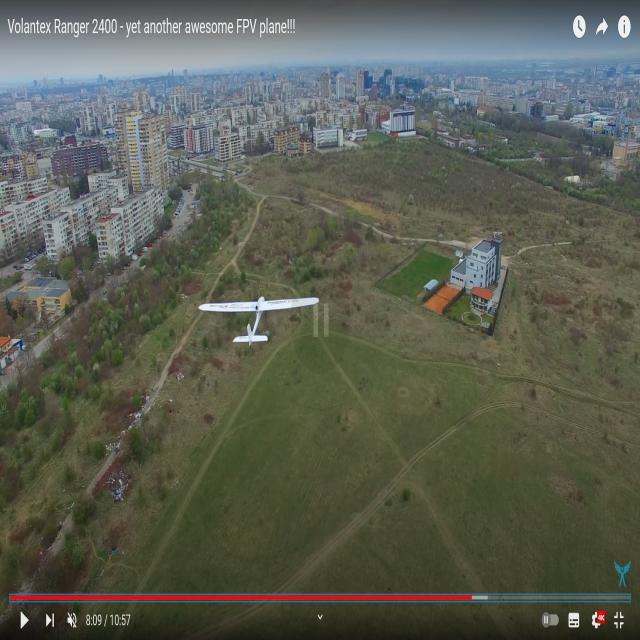iha: (230, 293, 286, 348)
